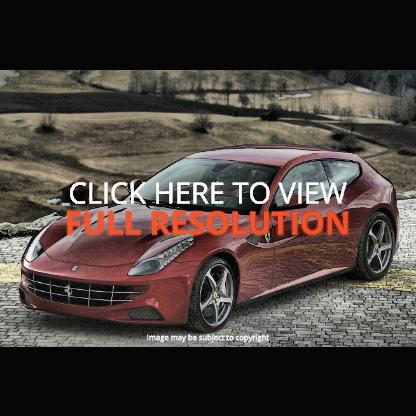Ferrari FF Coupe 2012: (18, 150, 400, 335)
